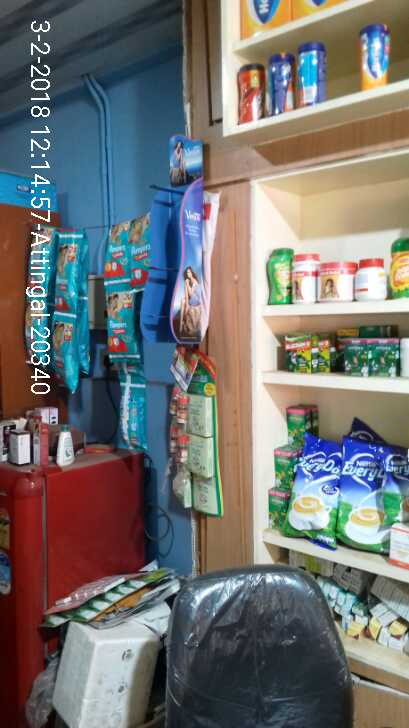pampers: (99, 289, 137, 361), (53, 233, 84, 310), (102, 221, 131, 283), (130, 215, 155, 276)
